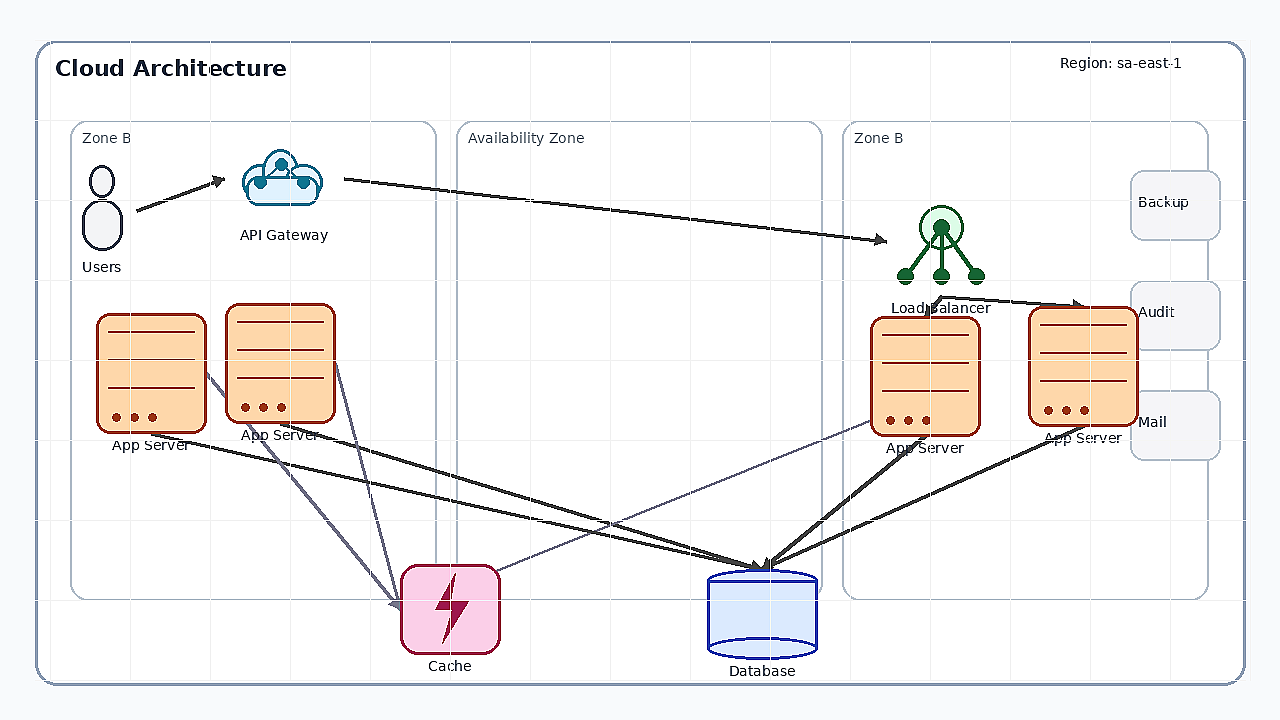API Gateway: (224, 133, 344, 223)
Application Server: (225, 303, 335, 423), (870, 316, 980, 436), (96, 313, 206, 433), (1028, 306, 1138, 426)
Cache: (400, 564, 500, 654)
Database: (707, 569, 817, 659)
Load Balancer: (886, 186, 996, 296)
User: (67, 165, 137, 255)
